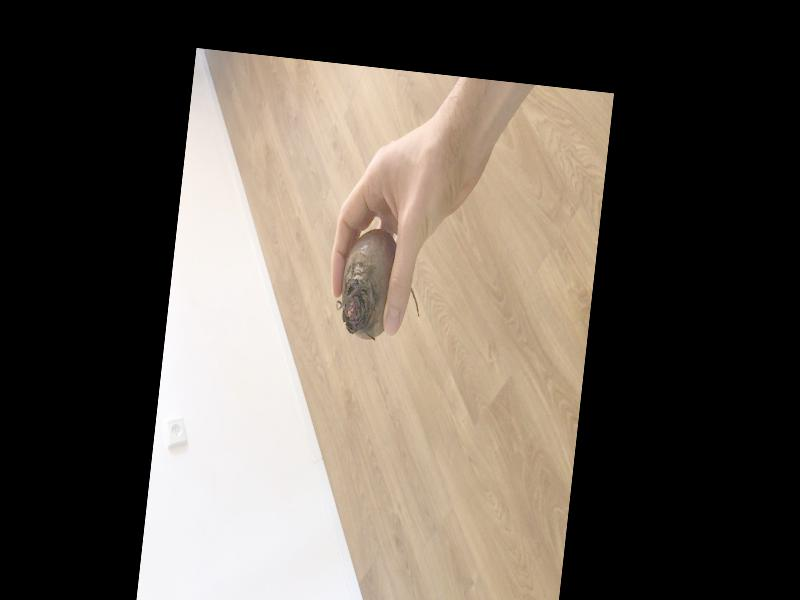Beet: (334, 226, 427, 345)
